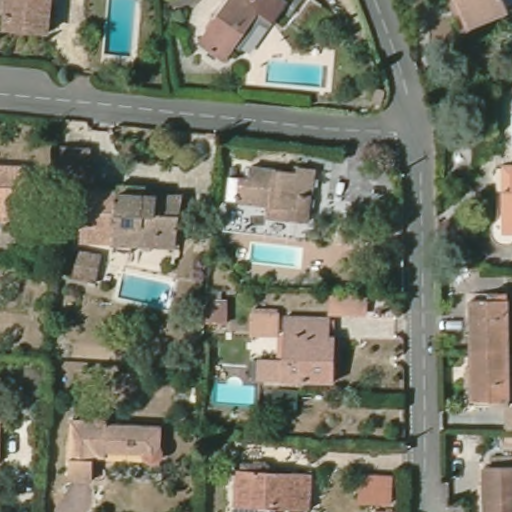pool: (96, 1, 144, 61), (115, 271, 179, 311), (246, 237, 313, 275), (261, 58, 333, 90), (212, 372, 261, 411)
